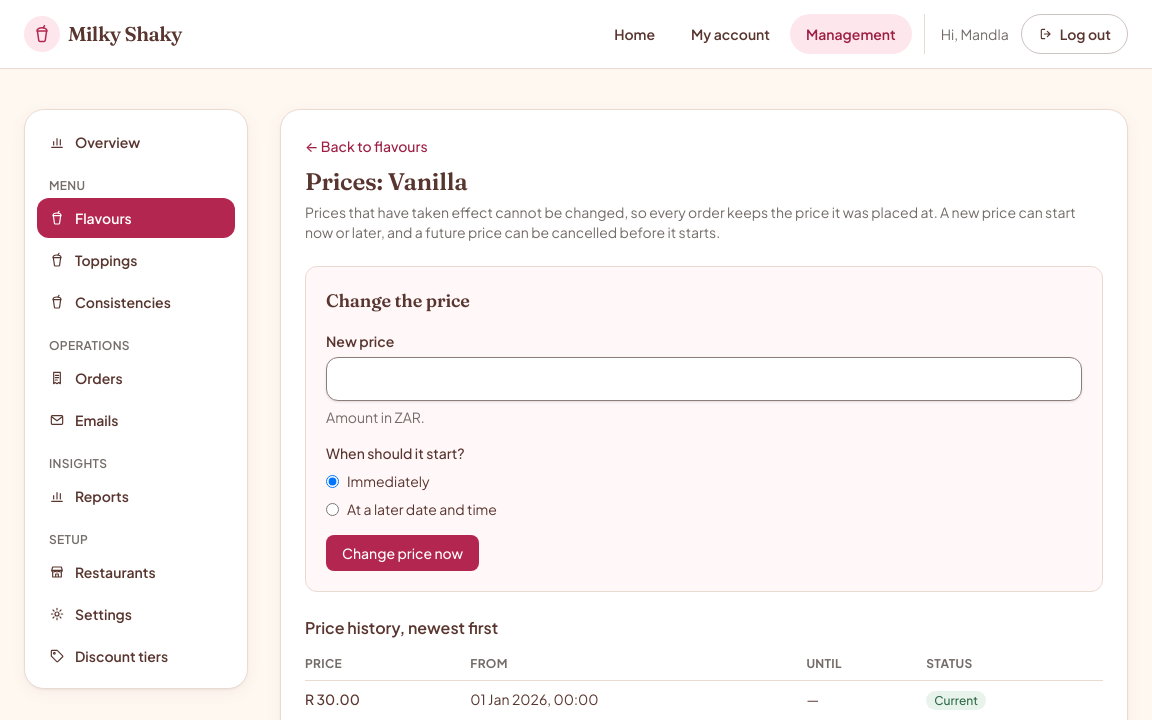
Test: price management › explains a conflict when someone else changed the price first
The width and height of the screenshot is (1152, 720).
Type "40" into the field labelled "New price" at point(704, 379), box [326, 357, 1082, 401]
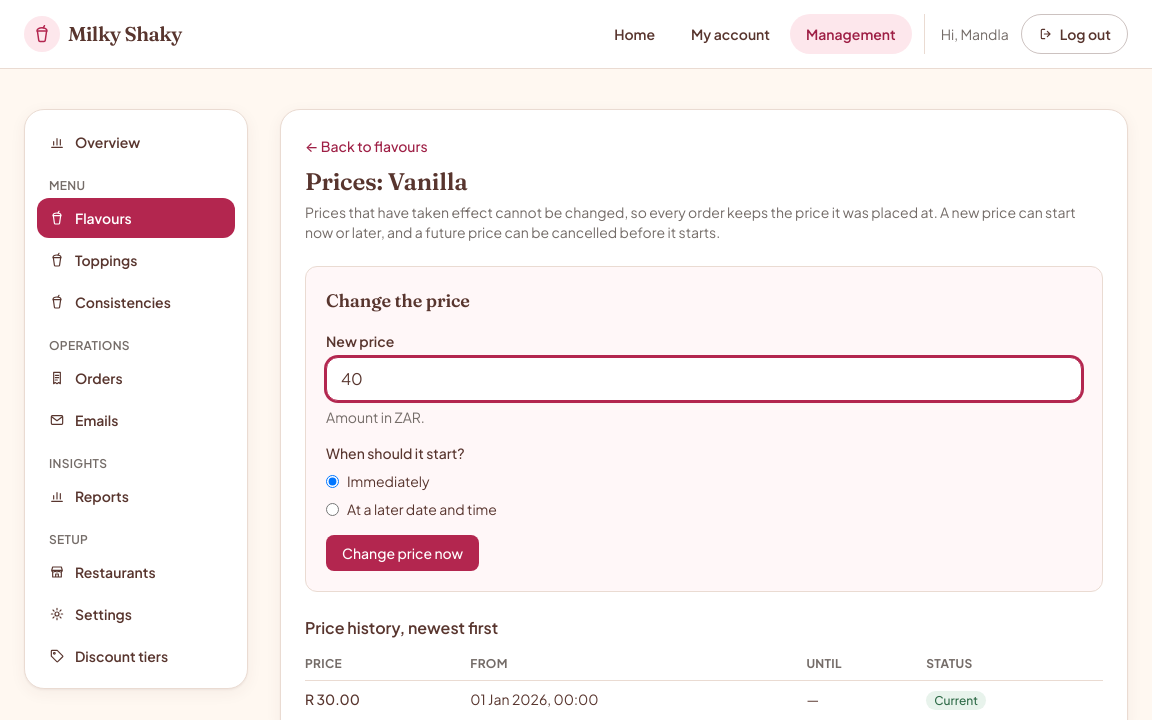
Click the button "Change price now" at point(403, 553), box [326, 535, 479, 571]
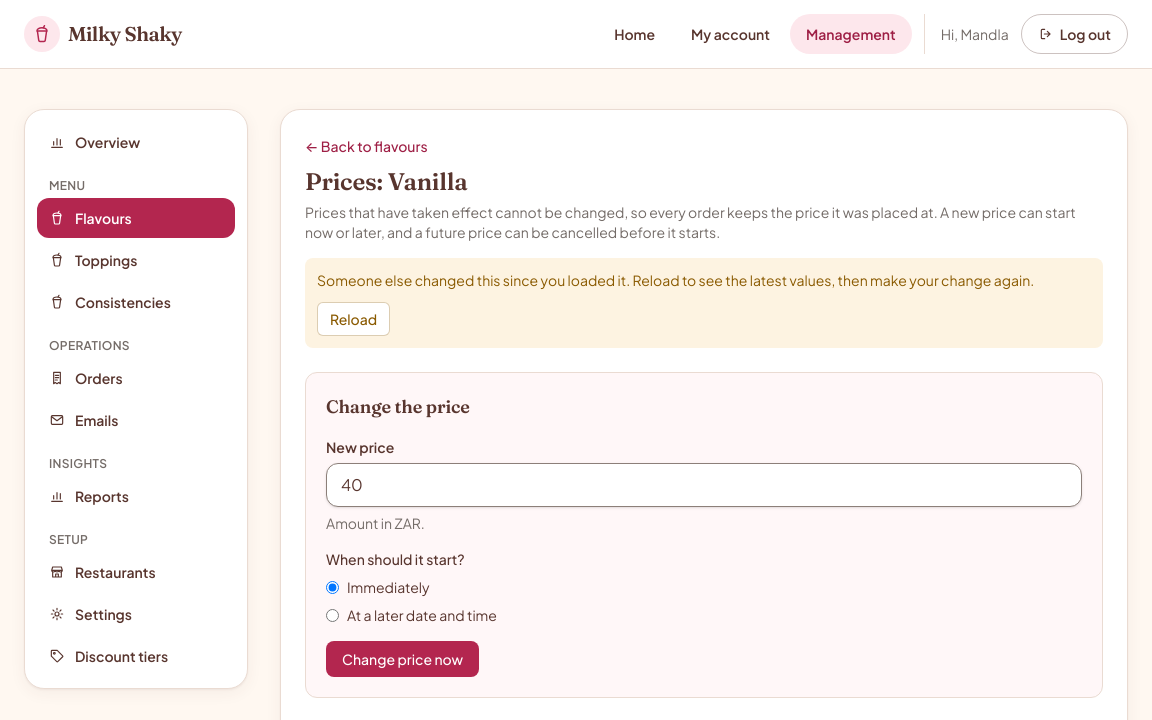
Check: the text "Someone else changed this since you loaded it. Reload to see the latest values, then make your change again." is shown, box [317, 271, 1034, 289]
Check: the button "Reload" is shown, box [317, 302, 390, 336]
